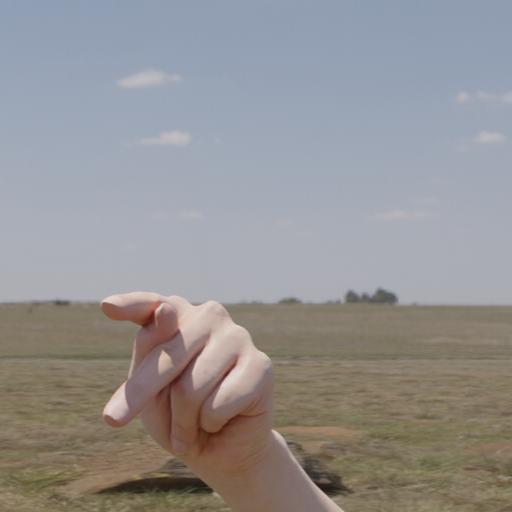P: (86, 270, 314, 506)
